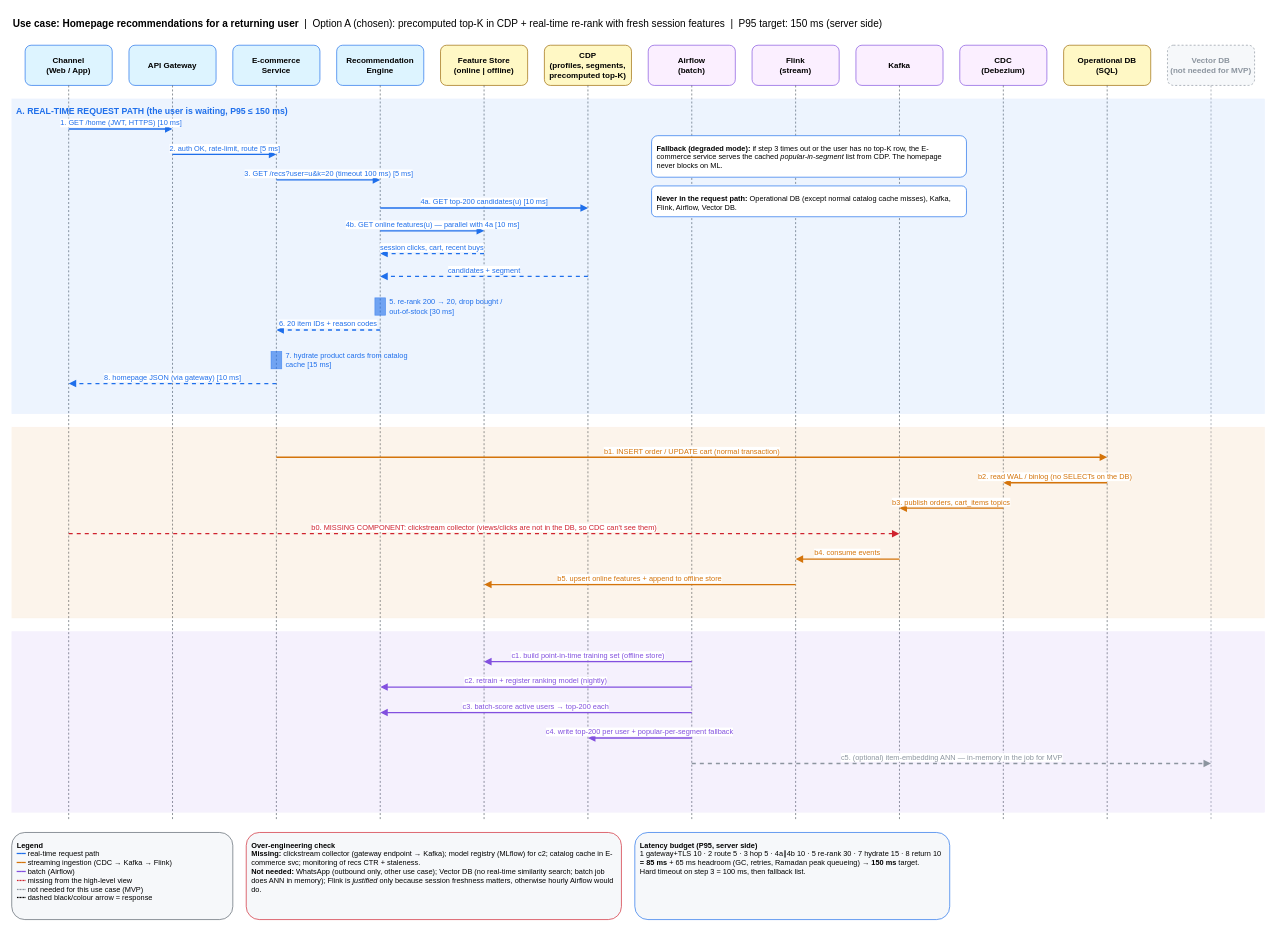
Image size: 1276x931. Some labels were removed from this diagram. Each missing label, with the centre of its shape:
"B1. BACKGROUND: NEAR-REAL-TIME INGESTION (seconds; nobody waits)" goes at point 638,522.
"B2. BACKGROUND: BATCH (Airflow DAG, nightly + hourly refresh of top-K)" goes at point 638,721.
